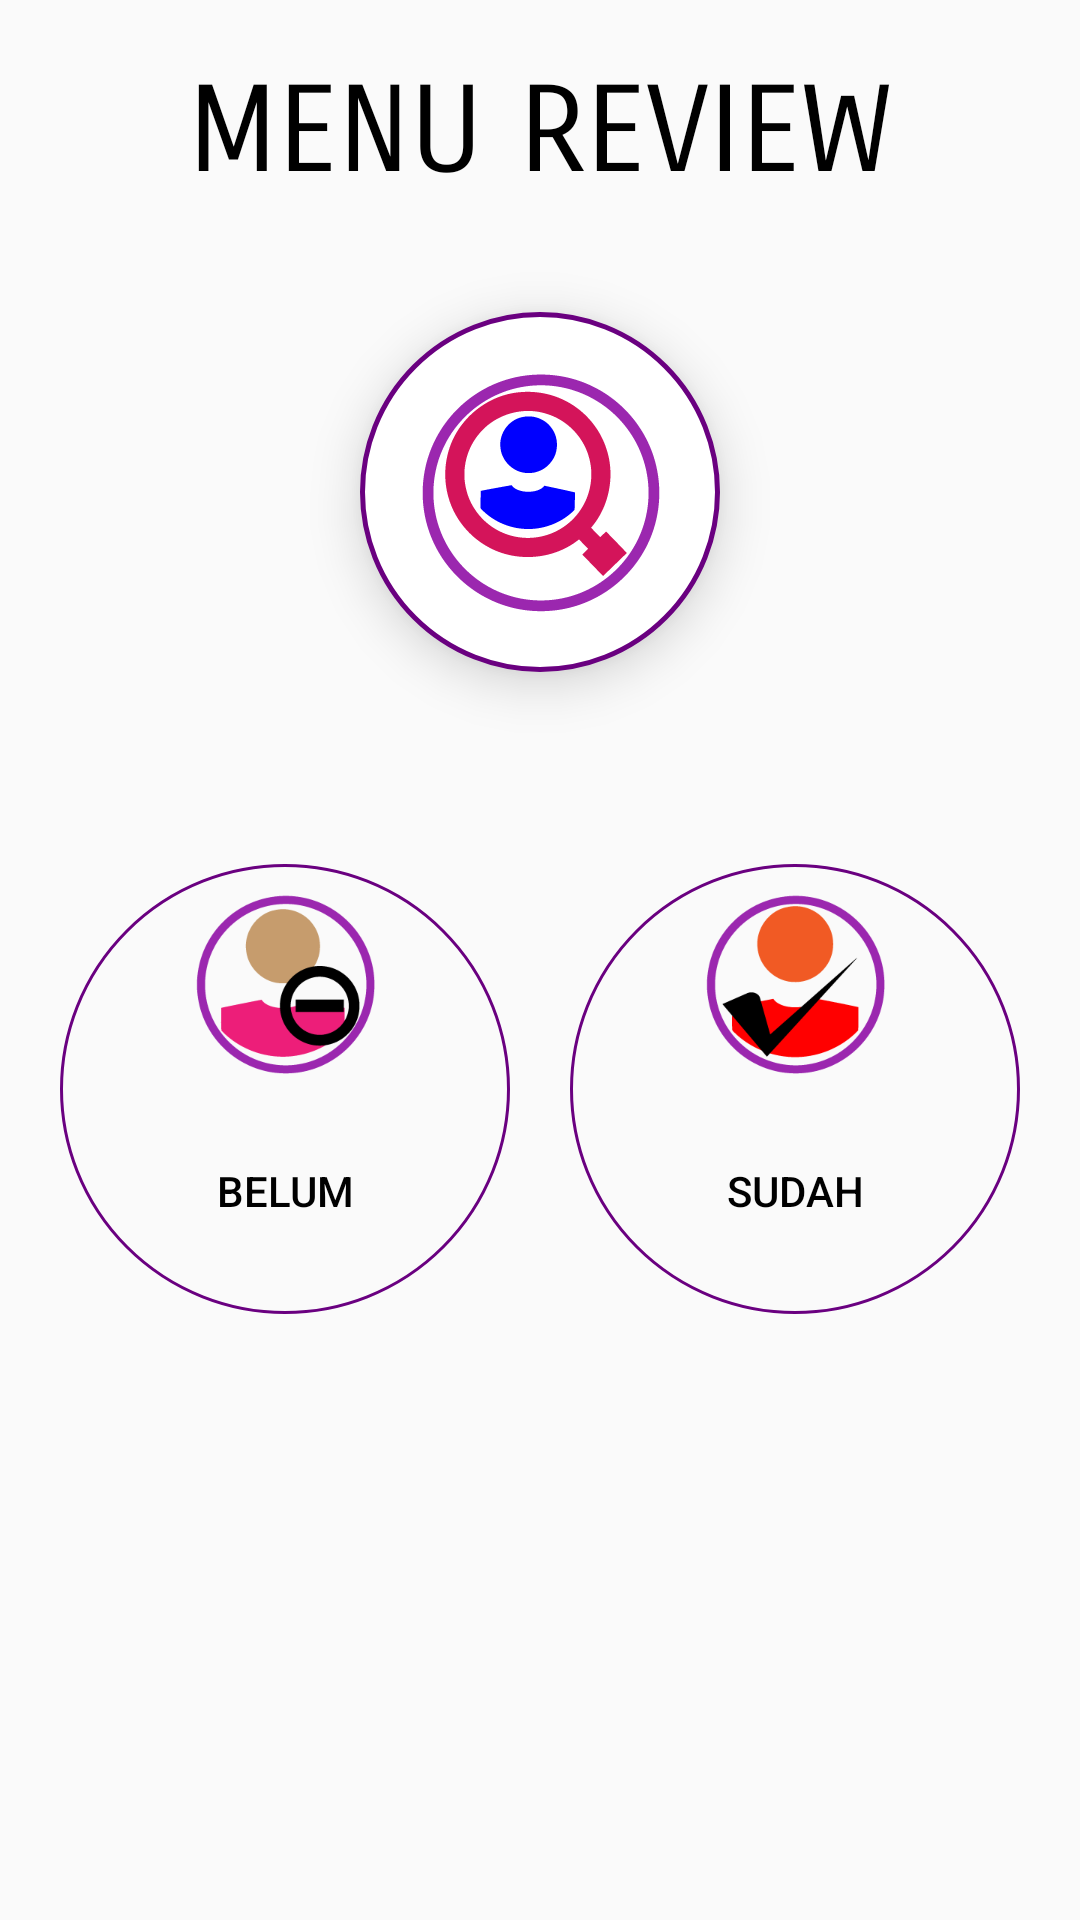

Named icons in this screenshot (1080*1920) and their centers, (x=x, y=y):
lihat data pelanggan: (x=541, y=493)
